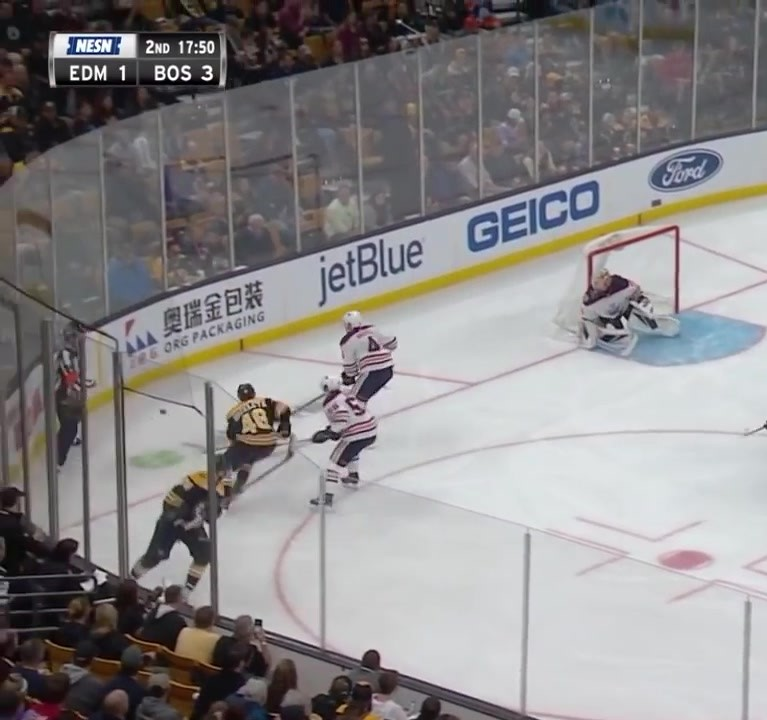Geico: (458, 177, 610, 260)
